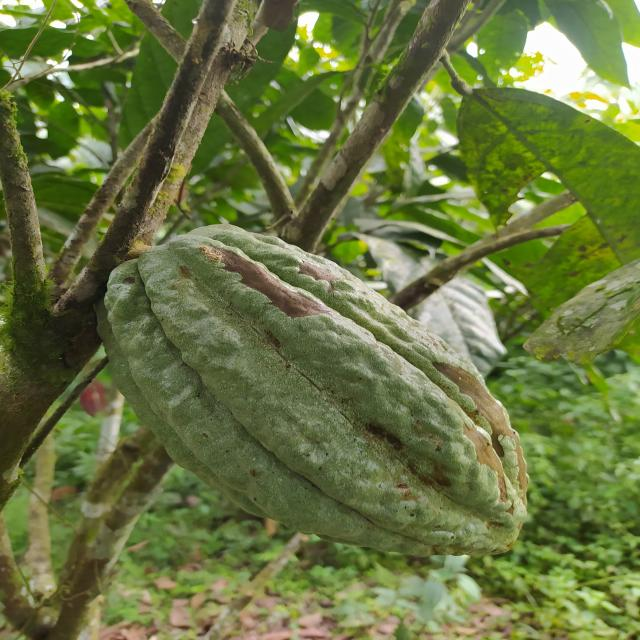Sana: (105, 222, 530, 573)
